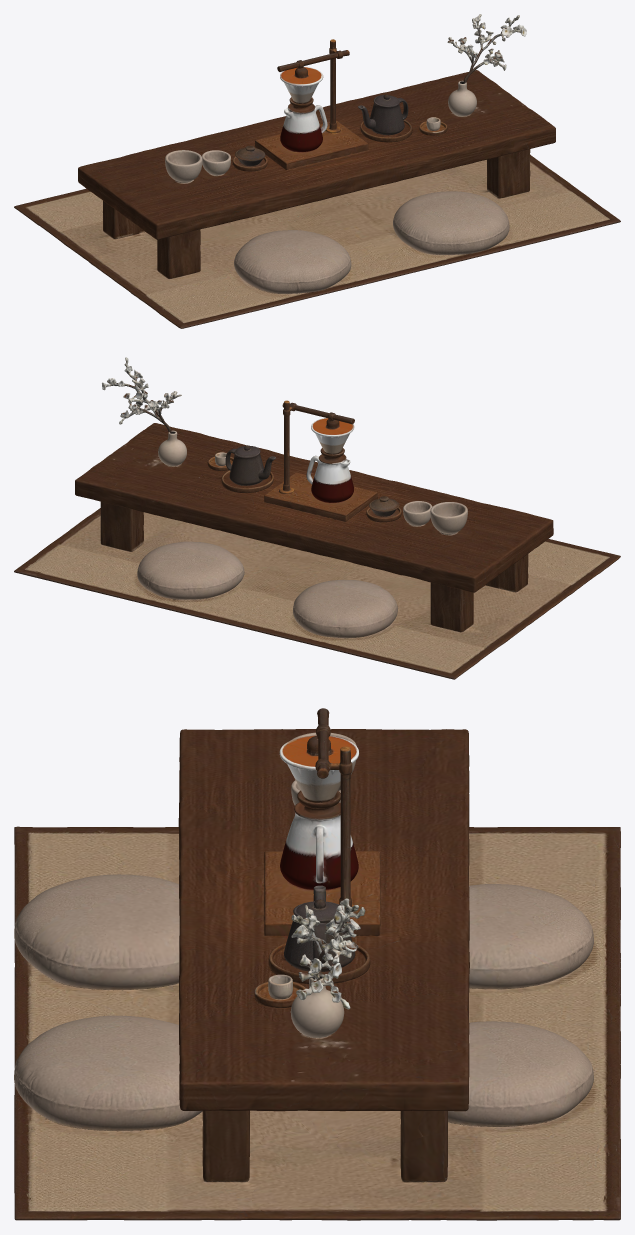
File: table.glb
3 views of the same model, one above another, from view 1: azimuth 30°, elevation 25°; view 2: azimuth 150°, elevation 25°; view 3: azimuth 270°, elevation 25° (orthographic). The views are drawn at different scales.
Size of the model in its own units: 1.9 by 0.6761 by 1.25.
Materials: 1 (1 with a texture image).
